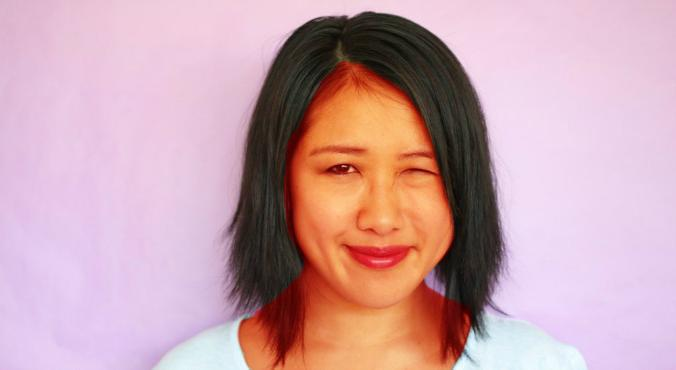Drunk: (298, 80, 448, 301)
